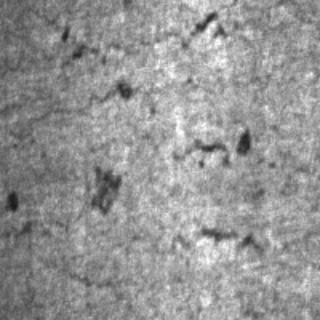crazing: (1, 213, 316, 309), (94, 120, 270, 258), (0, 80, 252, 172), (0, 4, 260, 68)
